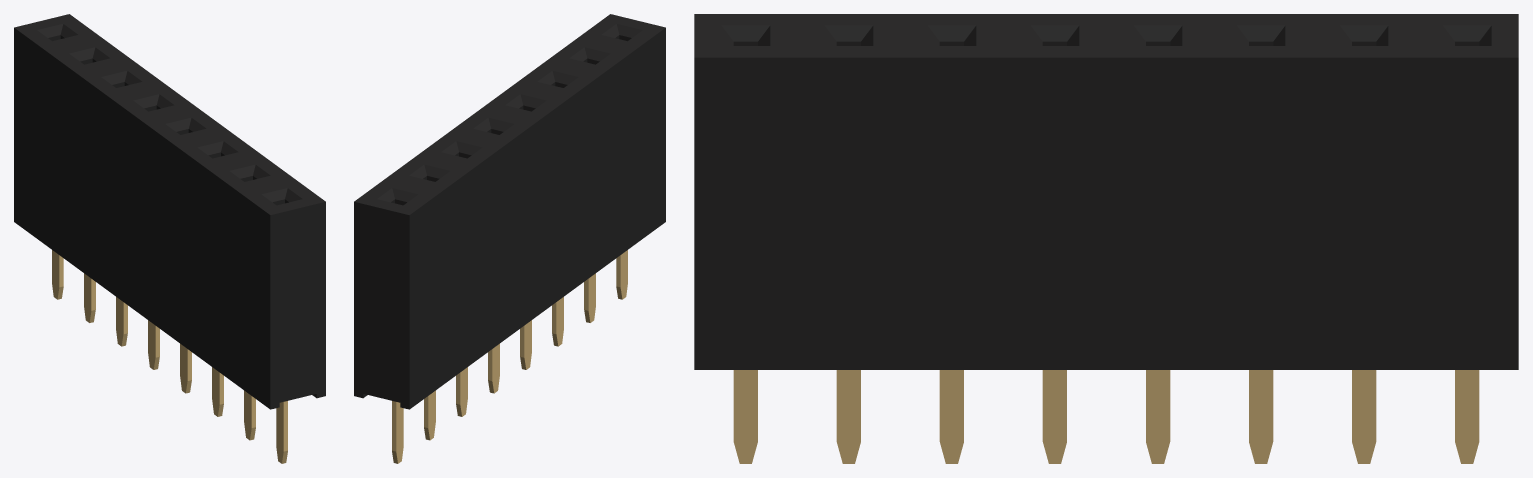
The model's file is kc-pinsocket_1x08_p2.54mm_vertical.glb.
The picture shows the model from 3 angles, left to right: view 1: azimuth 30°, elevation 25°; view 2: azimuth 150°, elevation 25°; view 3: azimuth 270°, elevation 25°; orthographic projection. The views are drawn at different scales.
Parts seen in each view (by area): view 1: 0_0_0_0, 0.75_0.5_0.25_0.9; view 2: 0_0_0_0, 0.75_0.5_0.25_0.9; view 3: 0_0_0_0, 0.75_0.5_0.25_0.9.
Boxes of the visible parts, box(x1,y1,x2,y2) form: 0_0_0_0: box(14, 14, 325, 409); 0.75_0.5_0.25_0.9: box(52, 250, 287, 463); 0_0_0_0: box(354, 14, 665, 409); 0.75_0.5_0.25_0.9: box(392, 250, 627, 463); 0_0_0_0: box(694, 14, 1518, 369); 0.75_0.5_0.25_0.9: box(733, 370, 1479, 463).
Size of the model in its own units: 0.254 by 1.16 by 2.03.
